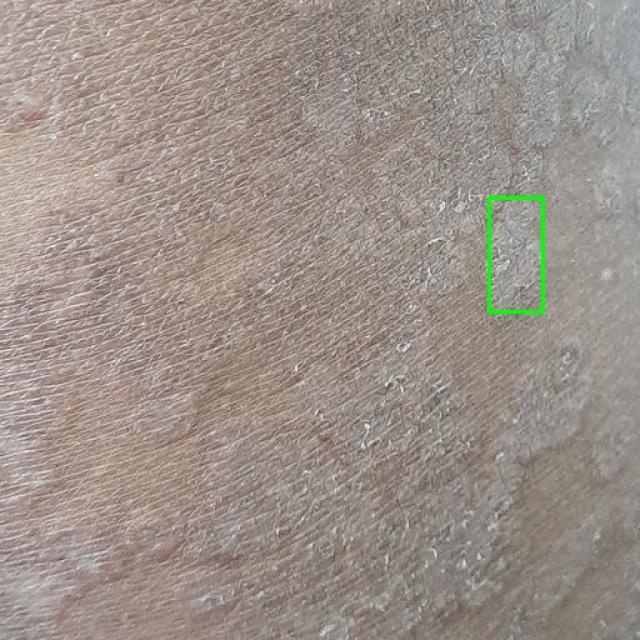Tinea Corporis: (489, 198, 542, 311)
